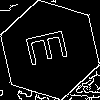E: (25, 25, 78, 68)
